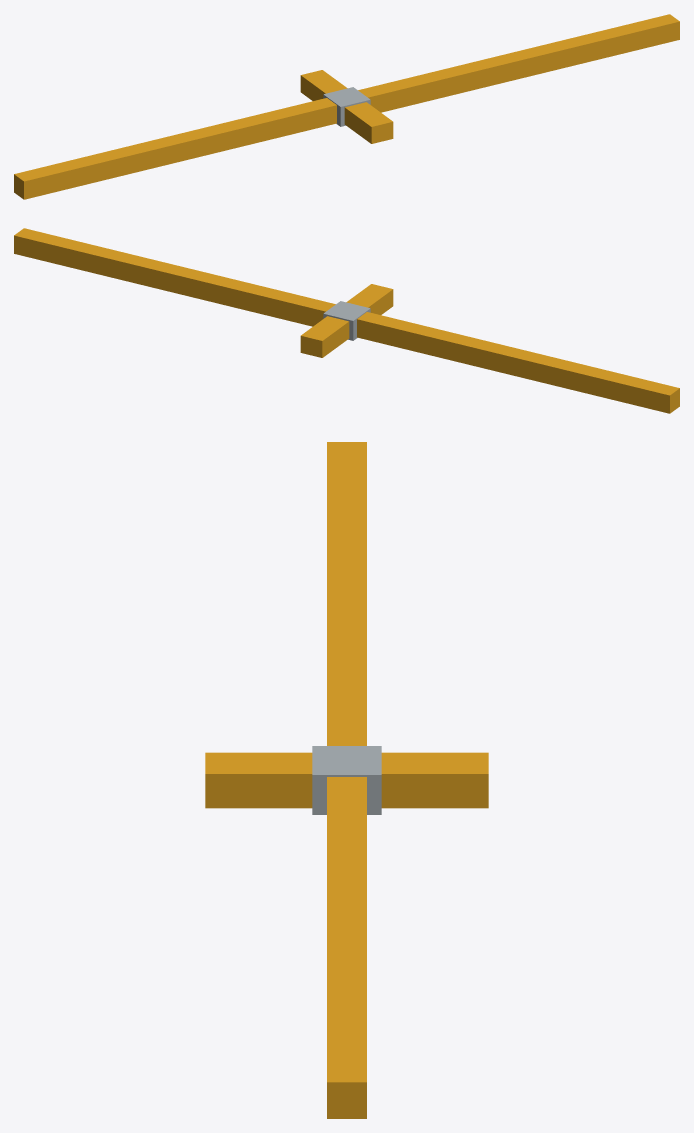
File: spreader40.dae
The picture shows the model from 3 angles, top to bottom: view 1: azimuth 30°, elevation 25°; view 2: azimuth 150°, elevation 25°; view 3: azimuth 270°, elevation 25°; orthographic projection. The views are drawn at different scales.
Parts seen in each view (by area): view 1: main_beam, end_beam_aft, hoist_eye; view 2: main_beam, end_beam_aft, hoist_eye; view 3: main_beam, end_beam_aft, hoist_eye.
Boxes of the visible parts, box(x1,y1,x2,y2) form: main_beam: box(14, 14, 679, 199); end_beam_aft: box(300, 70, 393, 143); hoist_eye: box(323, 87, 370, 126); main_beam: box(14, 228, 679, 413); end_beam_aft: box(300, 284, 393, 357); hoist_eye: box(323, 301, 370, 340); main_beam: box(327, 442, 366, 1118); end_beam_aft: box(205, 752, 488, 808); hoist_eye: box(312, 746, 381, 814).
Bounding box in the file's own units: 12.02 × 2.25 × 0.35.
